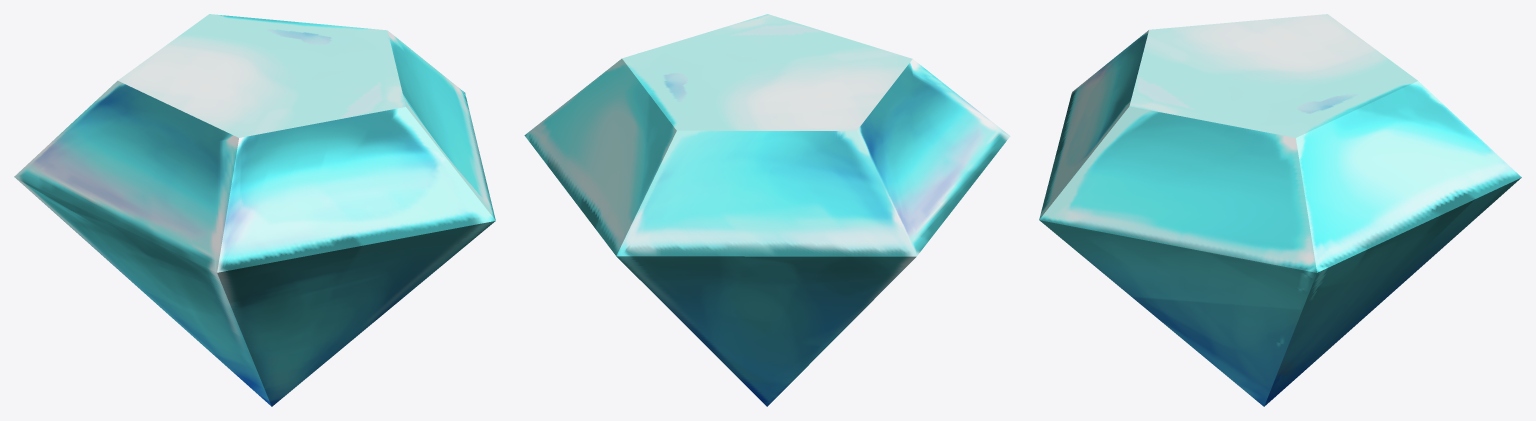
Rendered from Gem02.fbx.
The picture shows the model from 3 angles, left to right: view 1: azimuth 30°, elevation 25°; view 2: azimuth 150°, elevation 25°; view 3: azimuth 270°, elevation 25°; orthographic projection.
Parts seen in each view (by area): view 1: Gem02; view 2: Gem02; view 3: Gem02.
Part boxes in pixels (x1,y1,x2,y2): Gem02: (14,14,495,406); Gem02: (524,14,1010,406); Gem02: (1039,14,1521,406).
Bounding box in the file's own units: 15.02 × 11.26 × 14.79.
